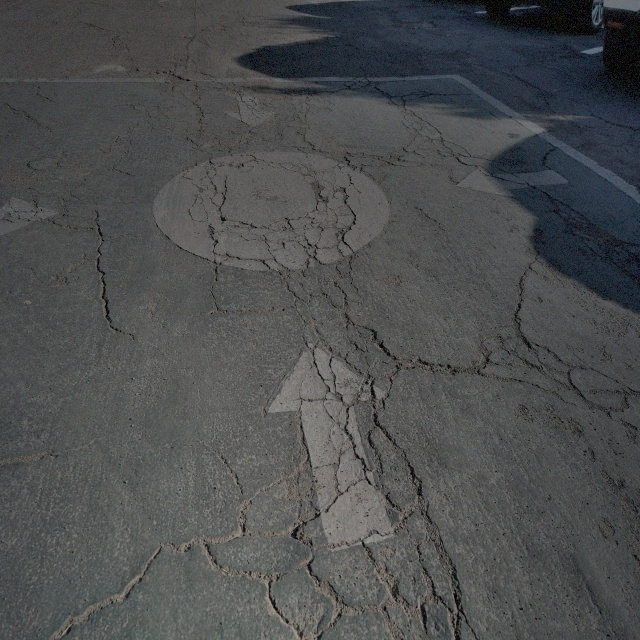pothole: (576, 217, 622, 253)
